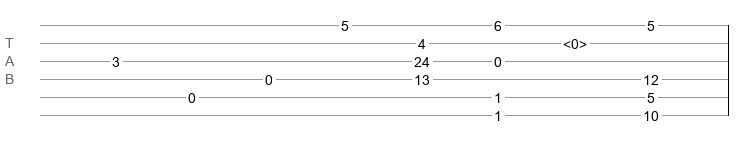0: (188, 90, 196, 100), (265, 72, 273, 82), (494, 54, 502, 64)
1: (494, 108, 502, 118), (494, 90, 502, 100)
10: (643, 108, 659, 118)
12: (643, 72, 659, 82)
13: (414, 72, 430, 82)
24: (414, 54, 430, 64)
3: (112, 54, 120, 64)
4: (418, 36, 426, 46)
5: (341, 18, 349, 28), (647, 90, 655, 100), (647, 18, 655, 28)
6: (494, 18, 502, 28)
harmonic: (563, 36, 587, 46)
